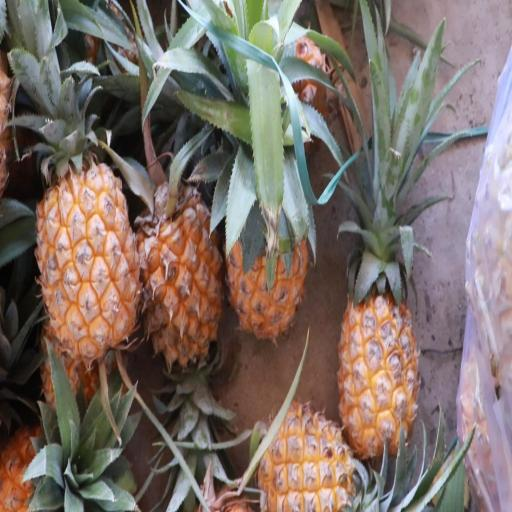Pineapple - v8 v1: (32, 136, 144, 369), (335, 222, 422, 464), (132, 171, 227, 373), (224, 139, 312, 342), (250, 397, 362, 512)
